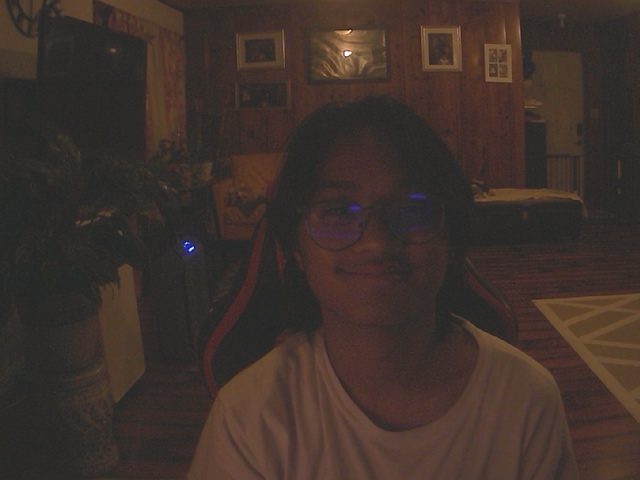happy: (264, 94, 477, 331)
